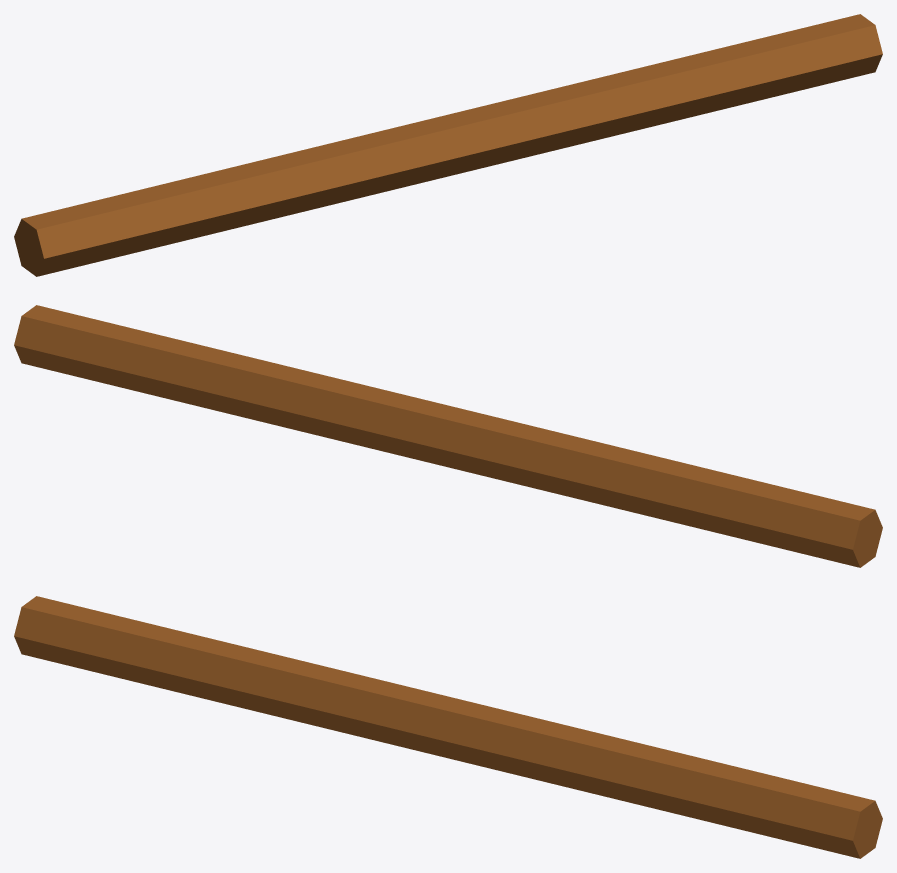
The model's file is copper stick.glb.
3 renders of one model, top to bottom at view 1: azimuth 30°, elevation 25°; view 2: azimuth 150°, elevation 25°; view 3: azimuth 330°, elevation 25°, orthographic.
Parts seen in each view (by area): view 1: Copper Stick; view 2: Copper Stick; view 3: Copper Stick.
Boxes of the visible parts, x1,y1,x2,y2 form: Copper Stick: [14, 14, 882, 276]; Copper Stick: [14, 305, 882, 567]; Copper Stick: [14, 596, 882, 858].
Bounding box in the file's own units: 0.3219 × 0.0173 × 0.02.
